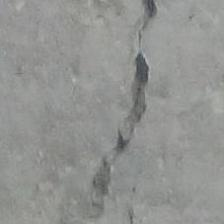Crack: (77, 1, 216, 224)
